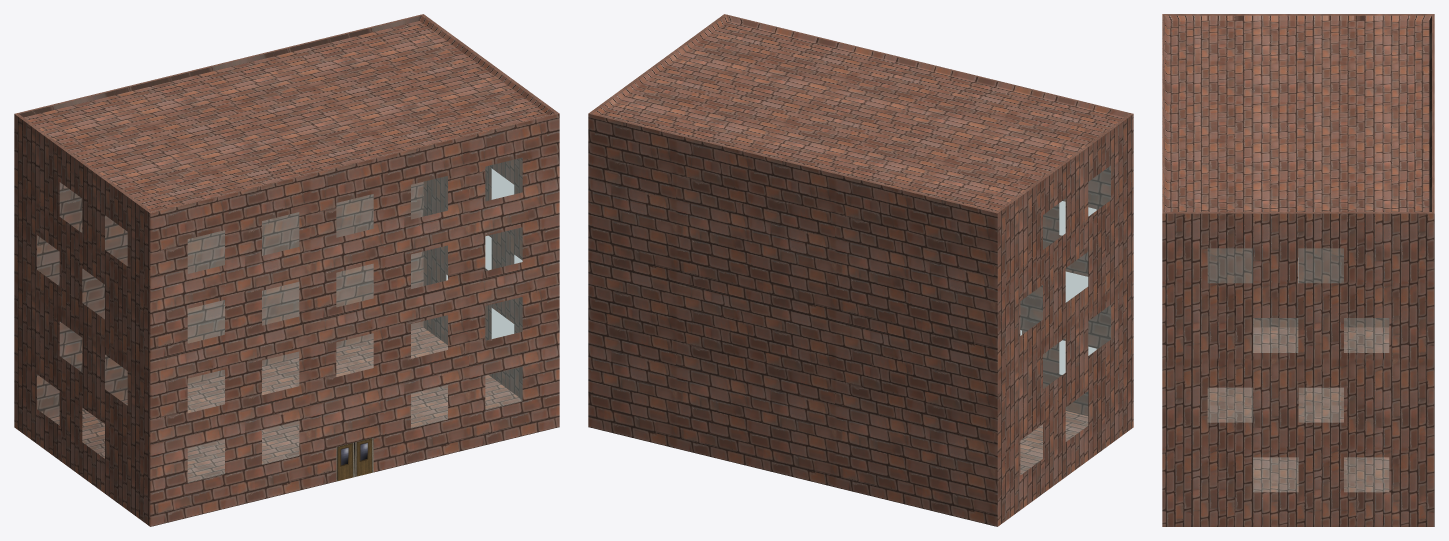
The model's file is BuildingObject.FBX.
The picture shows the model from 3 angles, left to right: view 1: azimuth 30°, elevation 25°; view 2: azimuth 150°, elevation 25°; view 3: azimuth 270°, elevation 25°; orthographic projection.
Visible parts, largest first — view 1: Box001; view 2: Box001; view 3: Box001.
Part boxes in pixels (bbox=[...]): Box001: bbox=[14, 14, 559, 526]; Box001: bbox=[588, 14, 1133, 526]; Box001: bbox=[1162, 14, 1434, 526].
Bounding box in the file's own units: 123 × 90.31 × 71.1.
Materials: 3 (2 with a texture image).
